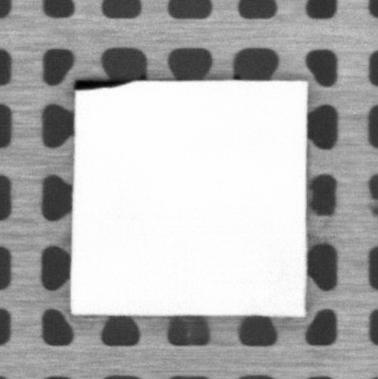DIE_BROKEN: (72, 78, 129, 92)
